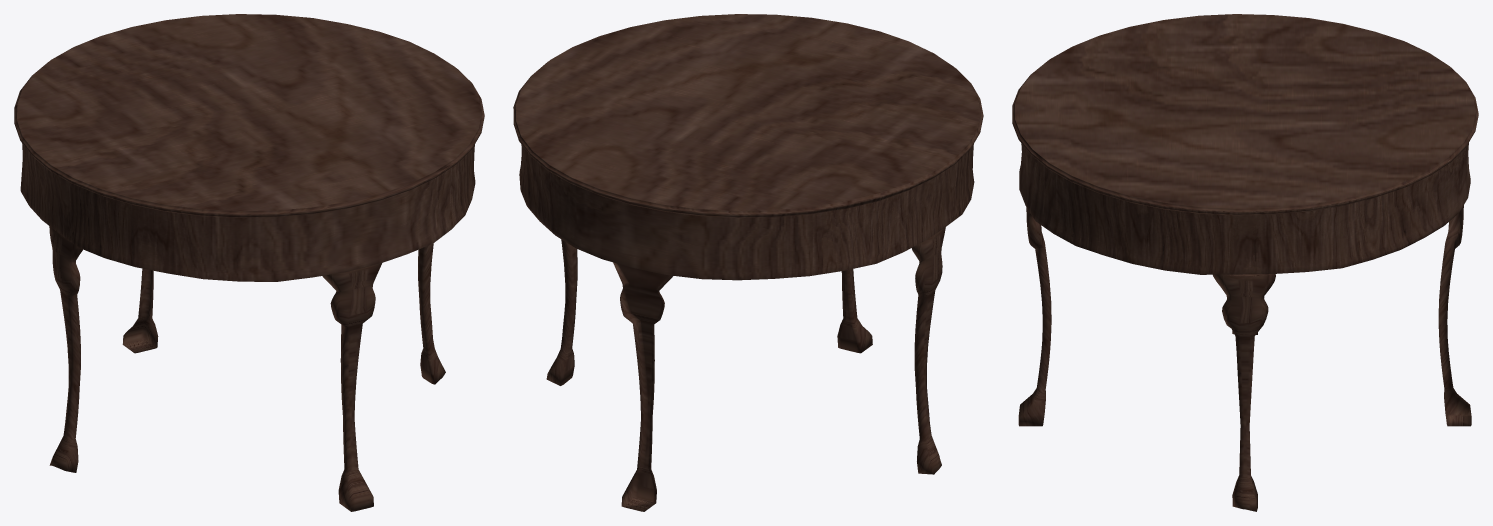
Rendered from BallroomTableFlipped.obj.
3 renders of one model, left to right at view 1: azimuth 30°, elevation 25°; view 2: azimuth 150°, elevation 25°; view 3: azimuth 270°, elevation 25°, orthographic.
Visible parts, largest first — view 1: Cube.002; view 2: Cube.002; view 3: Cube.002.
Part boxes in pixels (x1,y1,x2,y2): Cube.002: (14, 14, 484, 511); Cube.002: (513, 14, 983, 511); Cube.002: (1012, 14, 1478, 511).
Bounding box in the file's own units: 1.2 × 0.8769 × 1.2.
